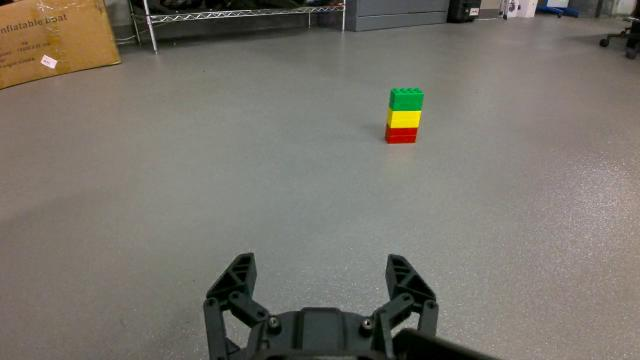lego: (383, 87, 426, 146)
